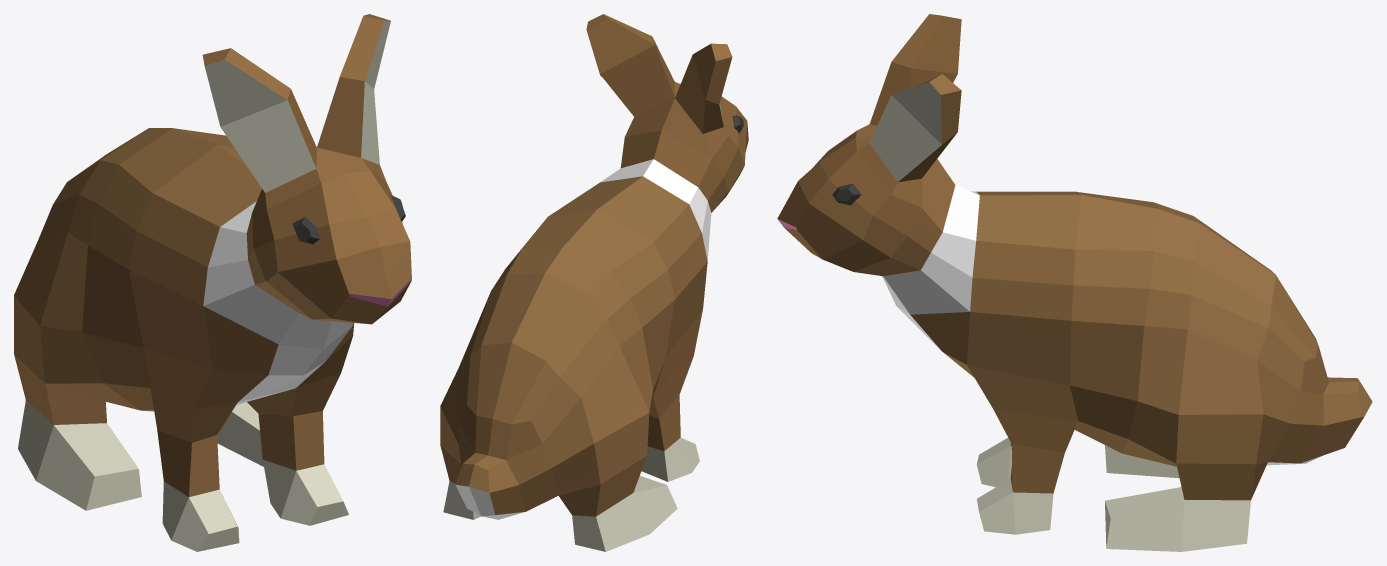
The model's file is Rabbit.fbx.
3 renders of one model, left to right at view 1: azimuth 30°, elevation 25°; view 2: azimuth 150°, elevation 25°; view 3: azimuth 270°, elevation 25°, orthographic. The views are drawn at different scales.
Visible parts, largest first — view 1: Rabbit; view 2: Rabbit; view 3: Rabbit.
Part boxes in pixels (x1=…): Rabbit: x1=14, y1=14, x2=411, y2=551; Rabbit: x1=440, y1=14, x2=748, y2=551; Rabbit: x1=777, y1=14, x2=1372, y2=551.
Size of the model in its own units: 28.05 by 55.99 by 66.63.
